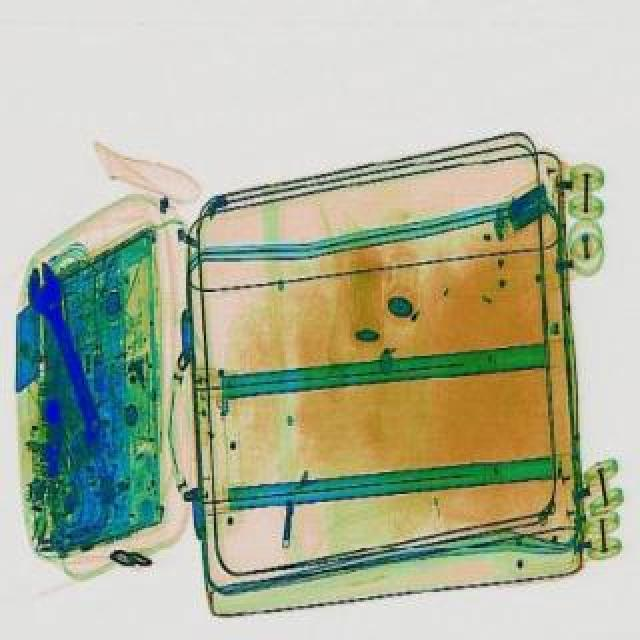scissors: (16, 258, 116, 442)
